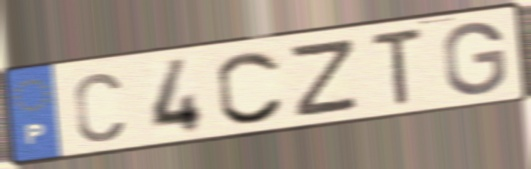4: (147, 55, 206, 136)
C: (213, 48, 288, 126), (70, 70, 127, 146)
G: (440, 19, 509, 98)
T: (367, 25, 427, 110)
Z: (290, 35, 362, 121)
